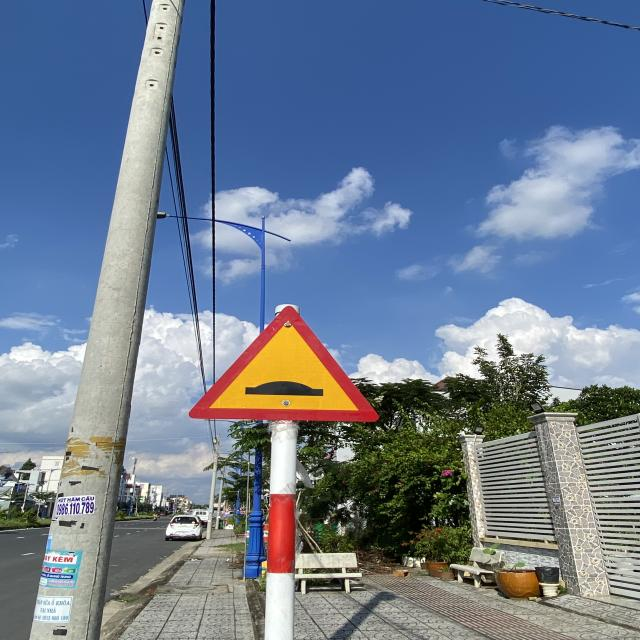Duong_Cong_Ben_Phai: (187, 306, 378, 422)
